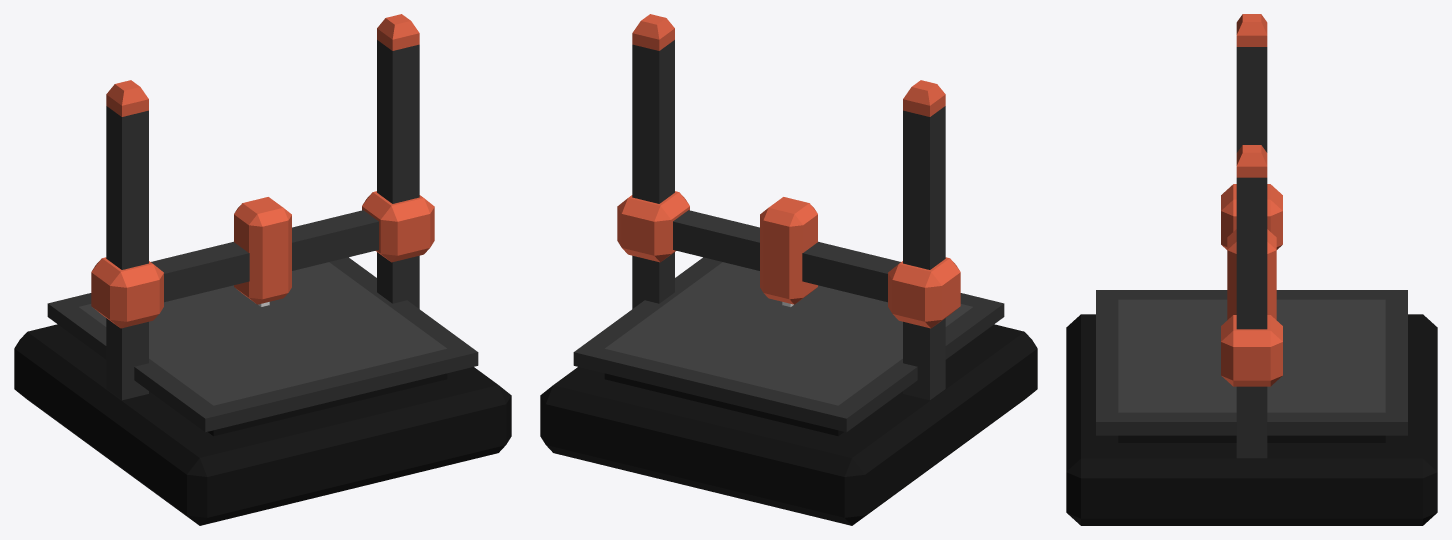
Rendered from 3D_Printer_TD_3.fbx.
3 views of the same model, side by side, from view 1: azimuth 30°, elevation 25°; view 2: azimuth 150°, elevation 25°; view 3: azimuth 270°, elevation 25° (orthographic).
Visible parts, largest first — view 1: Cube.012, Cube.015, Cube.016; view 2: Cube.012, Cube.015, Cube.016; view 3: Cube.012, Cube.015, Cube.016.
Part boxes in pixels (box(x1,y1,x2,y2)): Cube.012: box(14, 14, 511, 525); Cube.015: box(91, 191, 434, 328); Cube.016: box(234, 197, 291, 306); Cube.012: box(540, 14, 1037, 525); Cube.015: box(617, 191, 960, 328); Cube.016: box(760, 197, 817, 306); Cube.012: box(1066, 14, 1437, 525); Cube.015: box(1221, 184, 1282, 386); Cube.016: box(1227, 229, 1276, 319).
Bounding box in the file's own units: 600 × 660 × 600.
